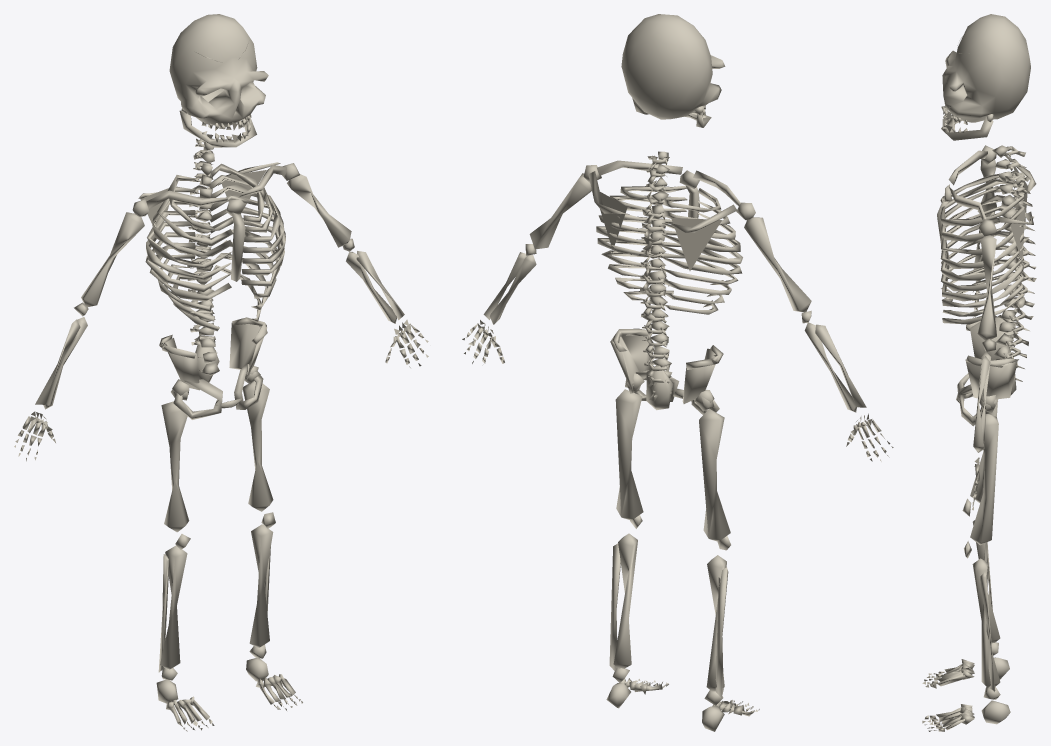
Rendered from ossuary_skeleton.glb.
3 views of the same model, side by side, from view 1: azimuth 30°, elevation 25°; view 2: azimuth 150°, elevation 25°; view 3: azimuth 270°, elevation 25° (orthographic). The views are drawn at different scales.
Parts seen in each view (by area): view 1: Skeleton; view 2: Skeleton; view 3: Skeleton.
Part boxes in pixels (x1=…): Skeleton: x1=14, y1=14, x2=428, y2=731; Skeleton: x1=462, y1=14, x2=893, y2=731; Skeleton: x1=922, y1=14, x2=1036, y2=731.
Size of the model in its own units: 1.39 by 2.16 by 0.3272.
